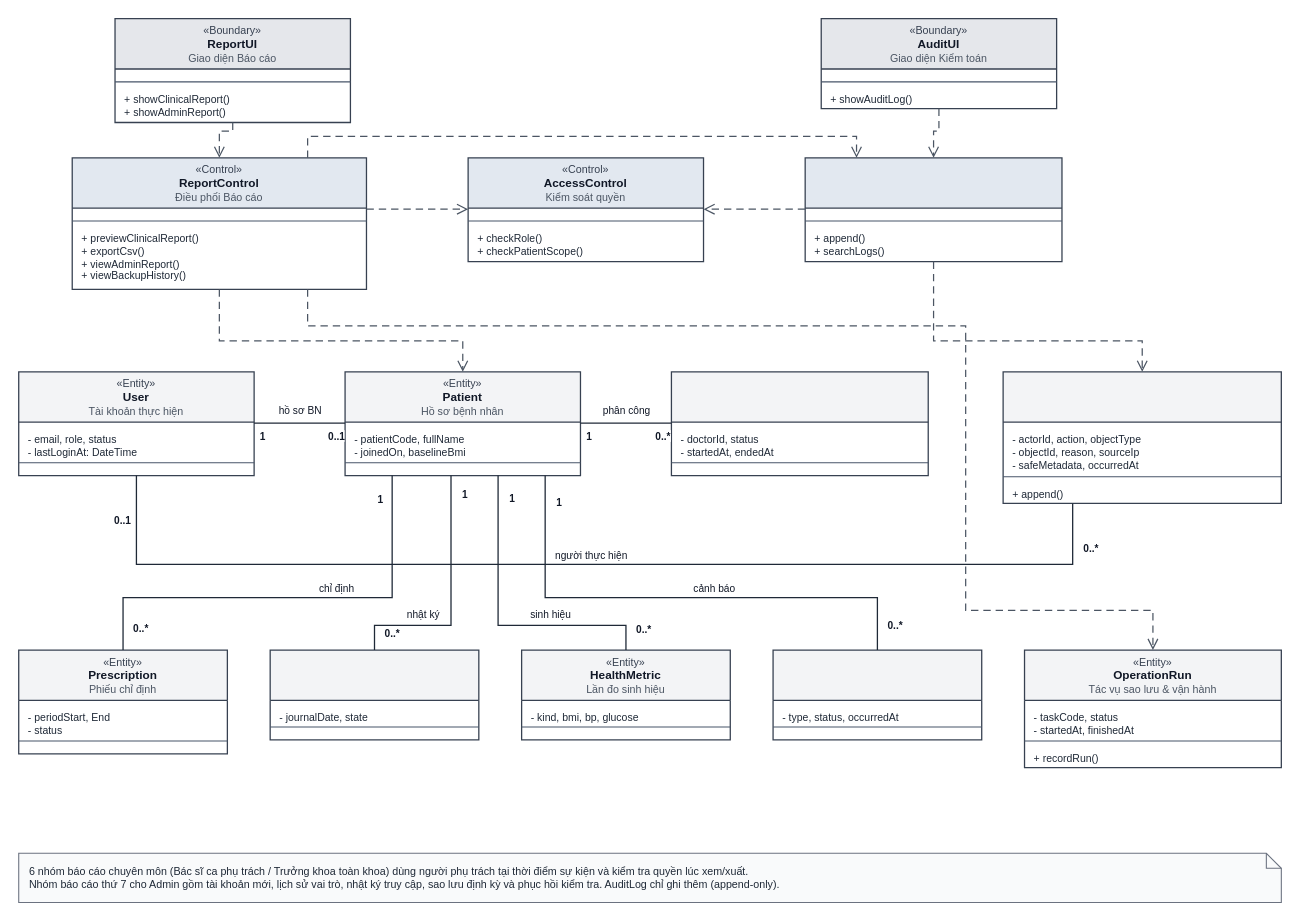
This 1301x922 diagram has some shape labels left out. Here are the shapes that lost their labels. From the top down, the box of each, then its label:
(804, 157, 1062, 262): «Control» AuditControl Điều phối Kiểm toán
(670, 371, 928, 476): «Entity» DoctorPatientAssignment Phân công tại thời điểm
(1002, 371, 1281, 504): «Entity» AuditLog Nhật ký kiểm toán
(269, 649, 479, 740): «Entity» FoodJournal Nhật ký ngày
(772, 649, 982, 740): «Entity» Alert Cảnh báo
